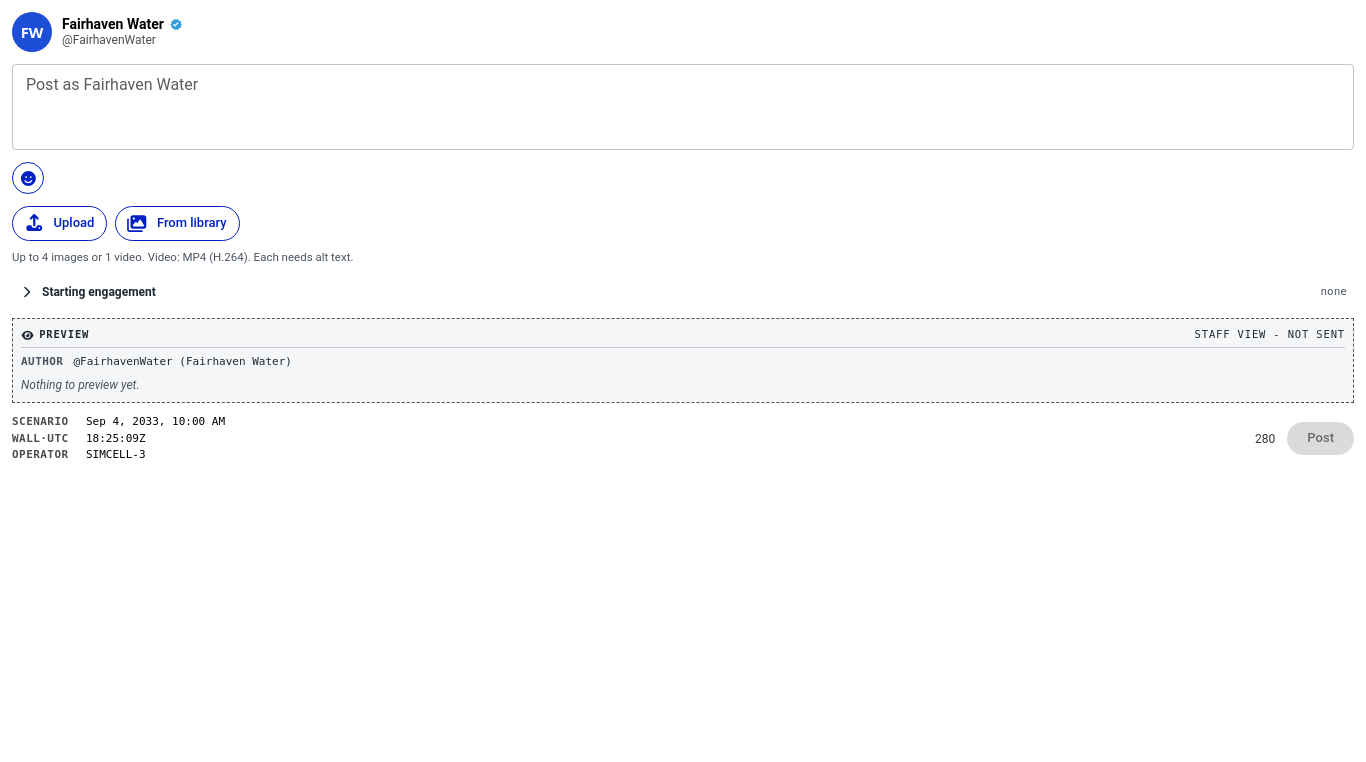
Test: PersonaComposer v2 — preview before Fire › says so when there is nothing to preview, and flags missing alt text in words
Expected: the text "Nothing to preview yet." is shown, [21, 378, 140, 392]
Click the button "From library". click: (178, 223)
box: [115, 206, 240, 241]
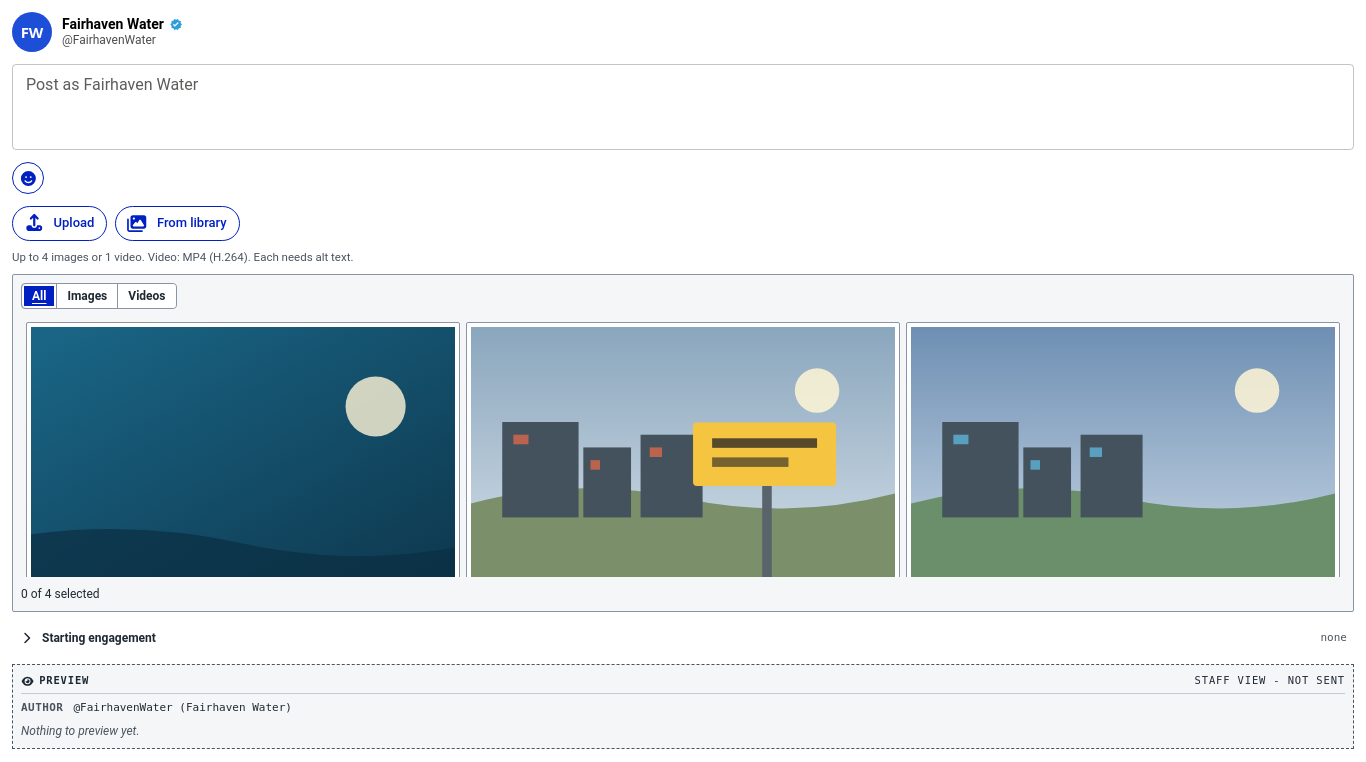
Click the option "water-plant.svg Sep 4, 2033, 8:20 AM". click: (1123, 502)
box: [906, 322, 1340, 683]
(page scrolled)
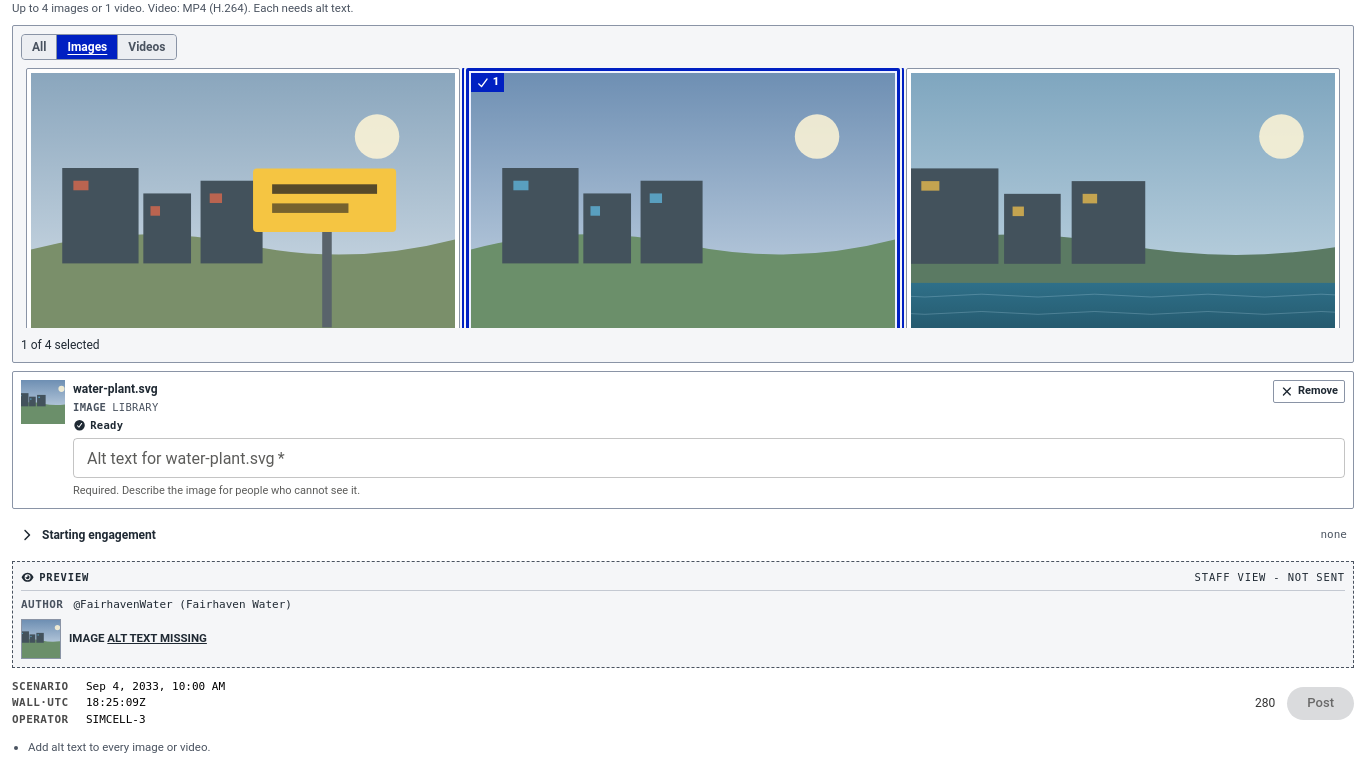
Now the text "ALT TEXT MISSING" is shown, box [107, 631, 207, 645]
